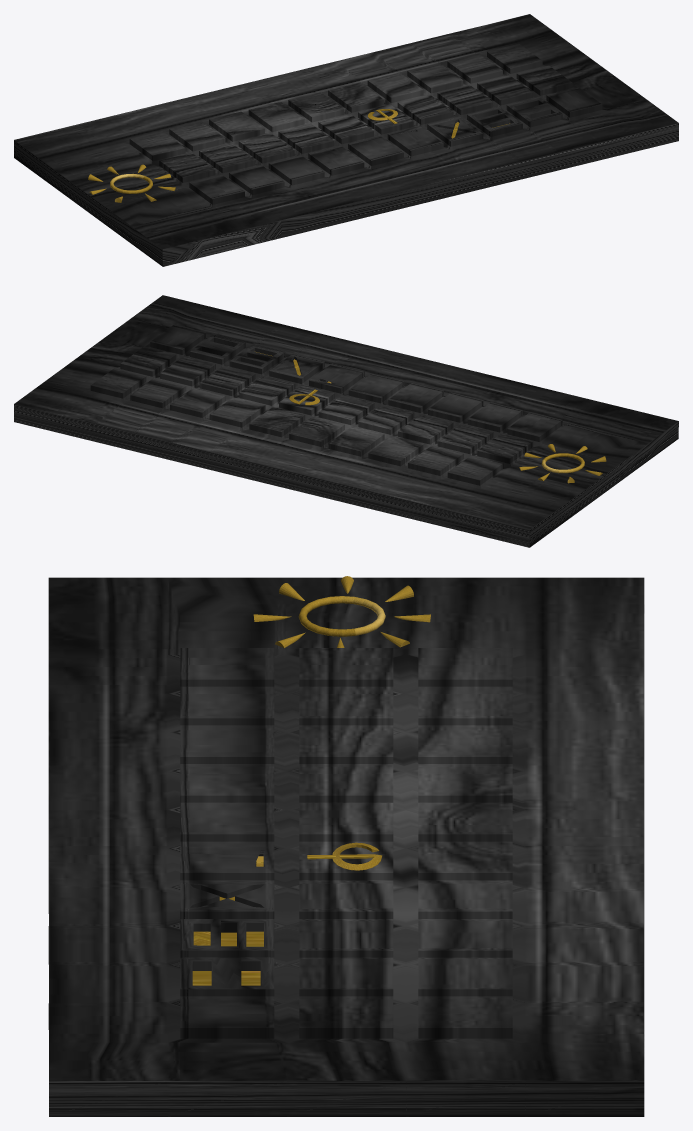
Rendered from tableroGame 1.fbx.
The picture shows the model from 3 angles, top to bottom: view 1: azimuth 30°, elevation 25°; view 2: azimuth 150°, elevation 25°; view 3: azimuth 270°, elevation 25°; orthographic projection. The views are drawn at different scales.
Visible parts, largest first — view 1: pCylinder18; view 2: pCylinder18; view 3: pCylinder18.
Boxes of the visible parts, left/top/right/bottom form: pCylinder18: left=14, top=14, right=678, bottom=266; pCylinder18: left=14, top=295, right=678, bottom=547; pCylinder18: left=48, top=576, right=644, bottom=1116.
Size of the model in its own units: 60.05 by 2.73 by 30.01.
4 materials, 4 textured.
